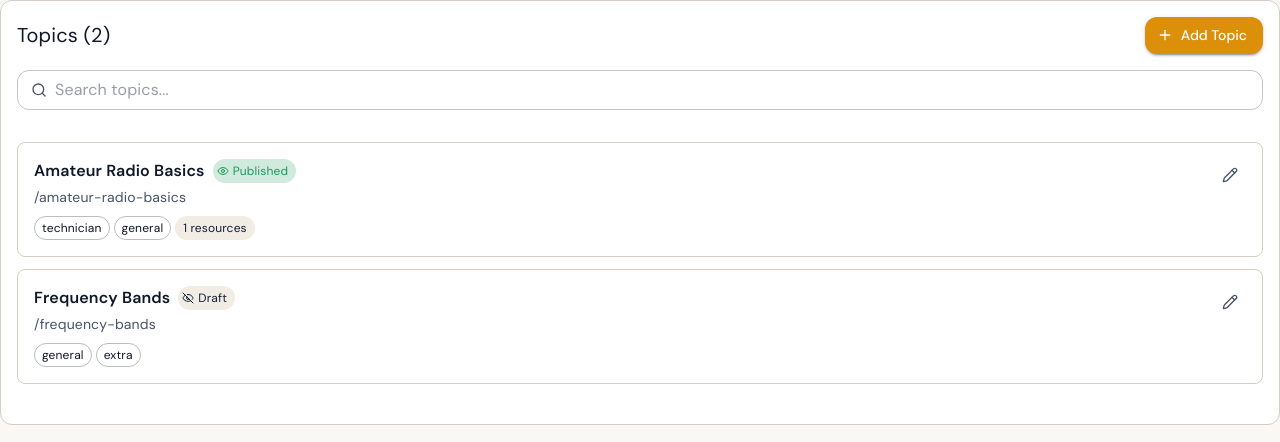
Scenario: AdminTopics › Search › should filter topics by title
The image size is (1280, 442).
Expected: the heading "Amateur Radio Basics" is shown, [34,158,205,182]
Type "Amateur" into the field with placeholder "Search topics..." at (659, 90), box [55,70,1263,110]
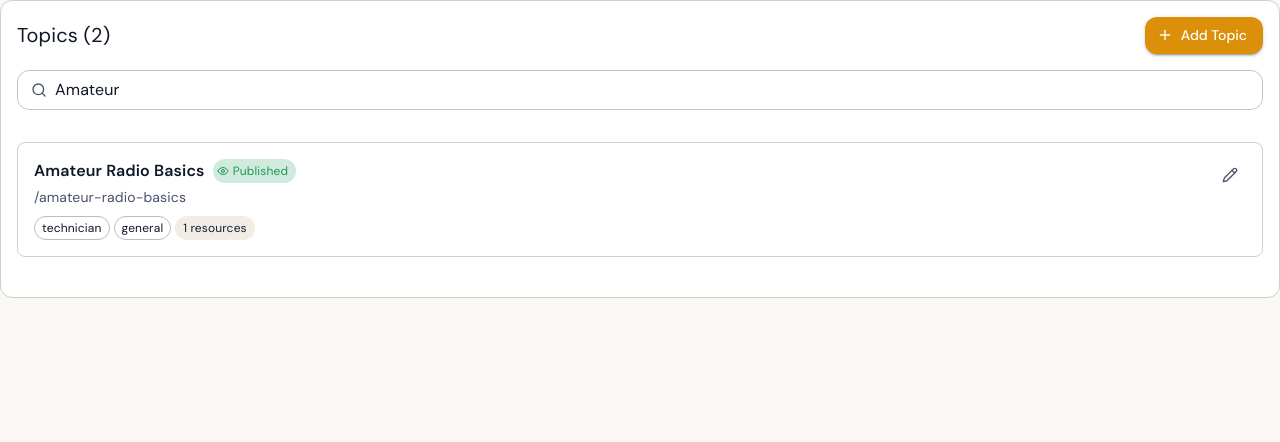
Expected: the heading "Amateur Radio Basics" is shown, [34,158,205,182]
Expected: the heading "Frequency Bands" is gone
